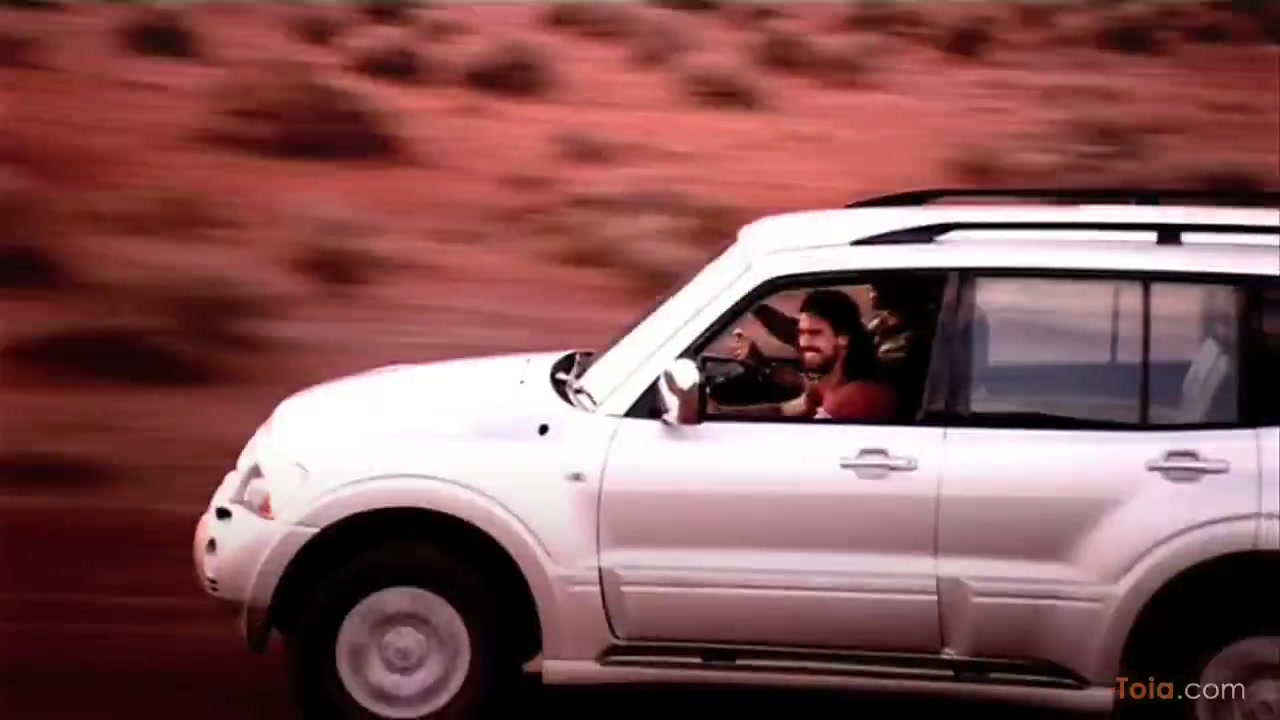car: (193, 189, 1280, 720)
